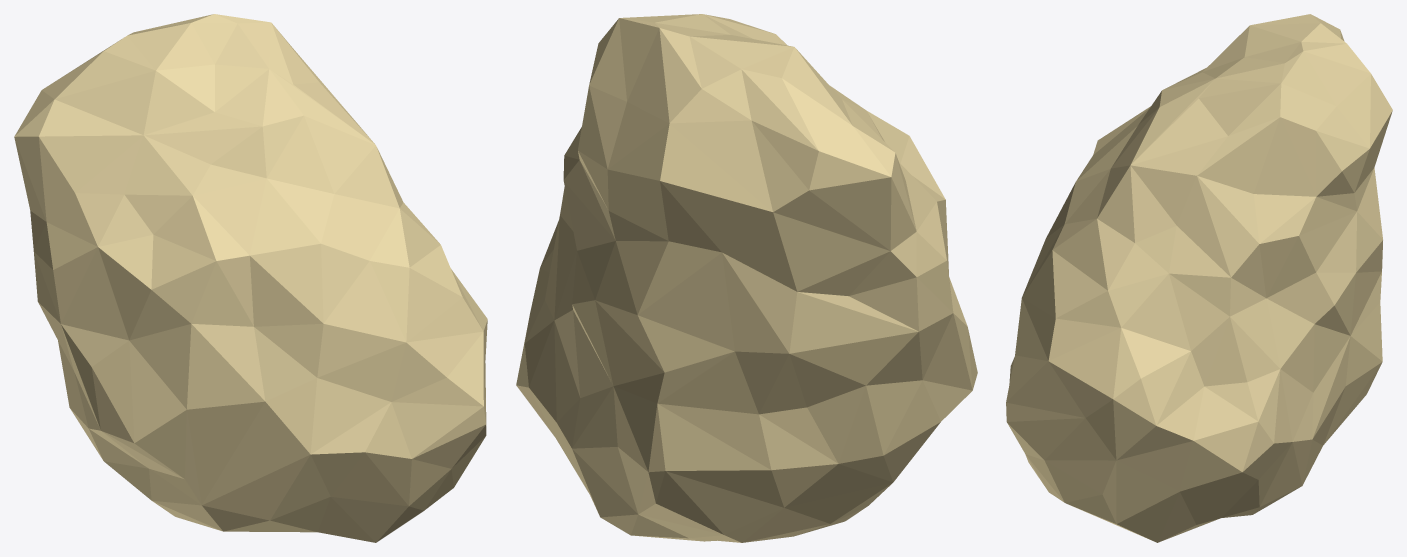
Rendered from Asteroid (62).fbx.
3 views of the same model, side by side, from view 1: azimuth 30°, elevation 25°; view 2: azimuth 150°, elevation 25°; view 3: azimuth 270°, elevation 25° (orthographic). The views are drawn at different scales.
Visible parts, largest first — view 1: Asteroid208; view 2: Asteroid208; view 3: Asteroid208.
Boxes of the visible parts, box(x1,y1,x2,y2) form: Asteroid208: box(14, 14, 487, 542); Asteroid208: box(516, 14, 977, 542); Asteroid208: box(1006, 14, 1392, 542).
Bounding box in the file's own units: 306 × 359 × 280.
